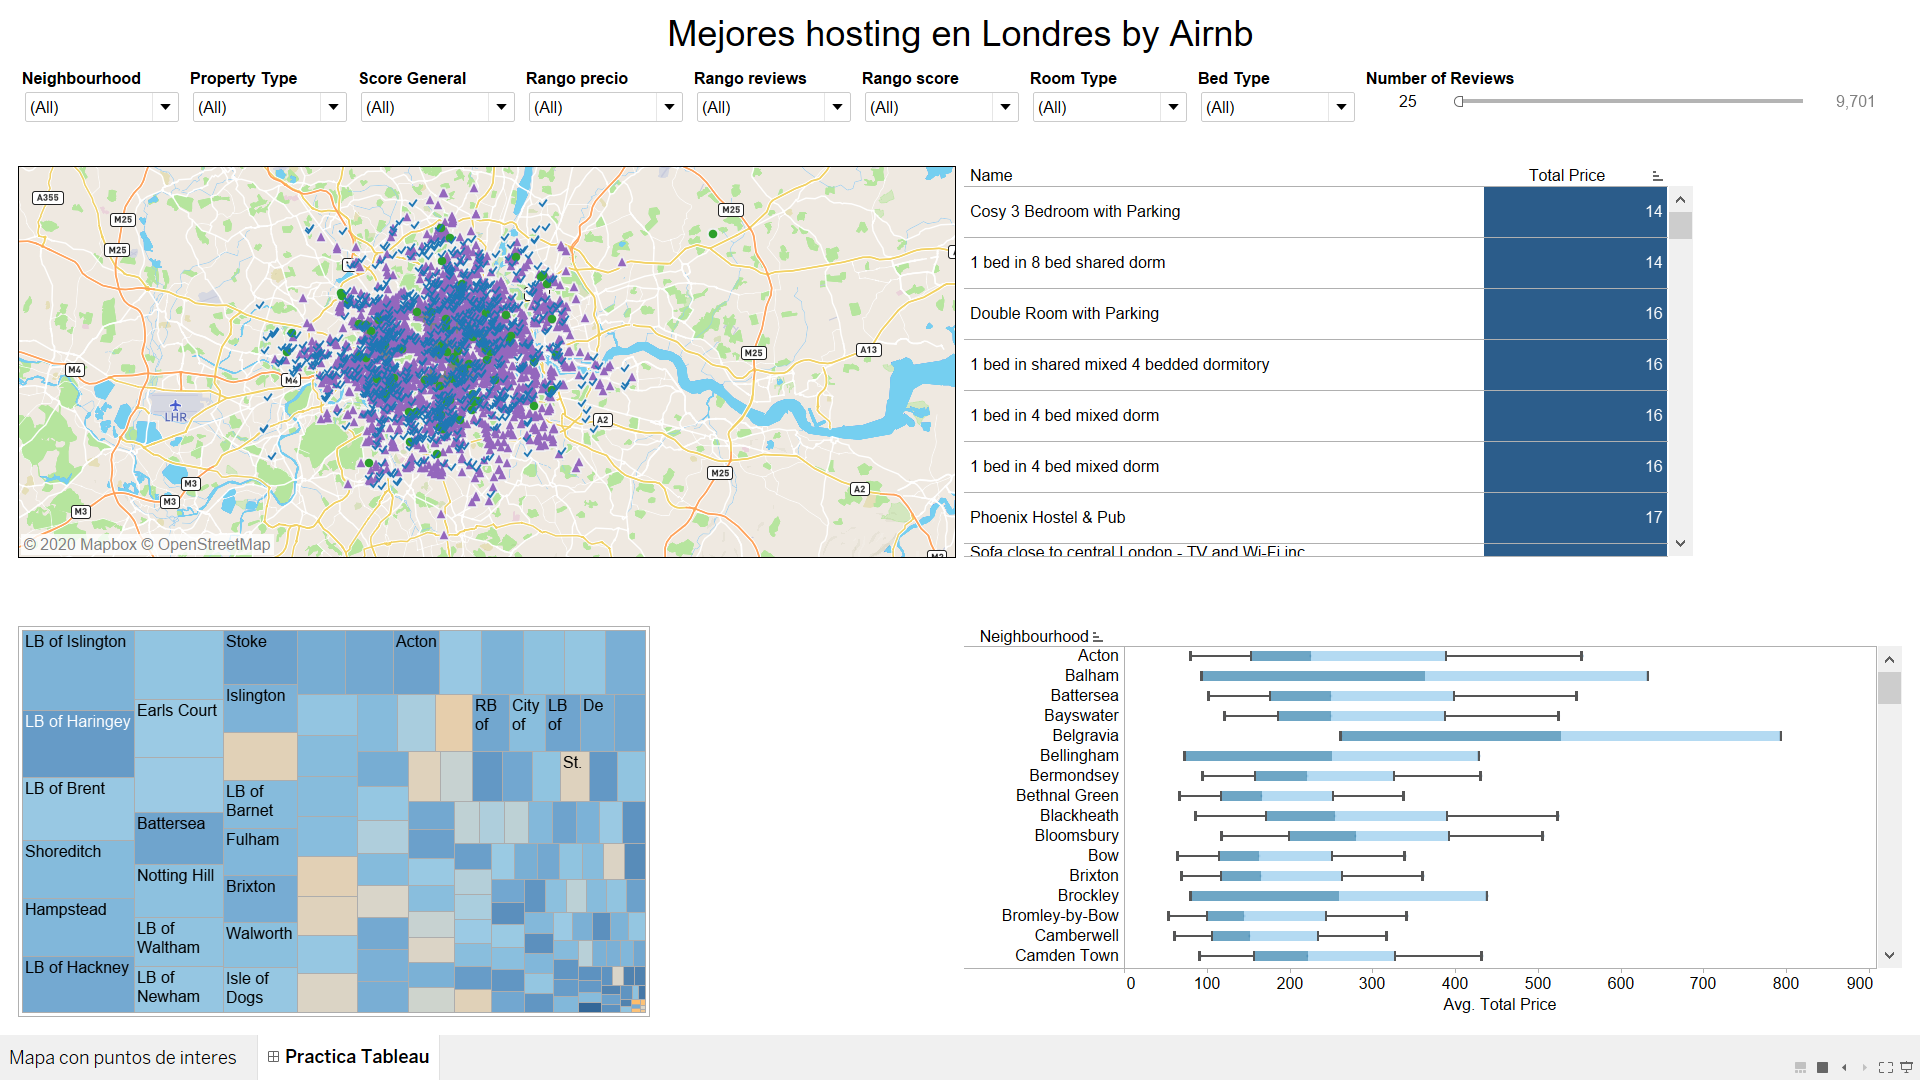

The page's visual inventory and layout, read from the dashboard file:
{"tool":"tableau","page":{"name":"Practica Tableau","canvas":[1000,1000],"units":"permille","ordinal":0},"visuals":[{"type":"title","box":[5,8.9,990,54.5]},{"type":"filter","title":"Mapa","param":"[federated.07pl4mt06vdxwe19zchyw0gzlfca].[none:Neighbourhood:nk]","box":[10,72.2,105,102.2]},{"type":"filter","title":"Mapa","param":"[federated.07pl4mt06vdxwe19zchyw0gzlfca].[none:Property Type:nk]","box":[115,72.2,105,102.2]},{"type":"filter","title":"Mapa","param":"[federated.07pl4mt06vdxwe19zchyw0gzlfca].[none:Calculation_1110418804915150855:n","box":[220,72.2,105,102.2]},{"type":"filter","title":"Mapa","param":"[federated.07pl4mt06vdxwe19zchyw0gzlfca].[none:Calculation_1110418804893048834:n","box":[325,72.2,105,102.2]},{"type":"filter","title":"Mapa","param":"[federated.07pl4mt06vdxwe19zchyw0gzlfca].[none:Rango precio (copy)_1110418804897","box":[430,72.2,105,102.2]},{"type":"filter","title":"Mapa","param":"[federated.07pl4mt06vdxwe19zchyw0gzlfca].[none:Rango reviews (copy)_111041880489","box":[535,72.2,105,102.2]},{"type":"filter","title":"Mapa","param":"[federated.07pl4mt06vdxwe19zchyw0gzlfca].[none:Room Type:nk]","box":[640,72.2,105,102.2]},{"type":"filter","title":"Mapa","param":"[federated.07pl4mt06vdxwe19zchyw0gzlfca].[none:Bed Type:nk]","box":[745,72.2,105,102.2]},{"type":"filter","title":"Rango de precios por vecindario","param":"[federated.07pl4mt06vdxwe19zchyw0gzlfca].[sum:Number of Reviews:qk]","box":[850,72.2,140,102.2]},{"type":"worksheet","title":"Mapa","mark":"Shape","rows":["Latitude"],"cols":["Longitude"],"box":[7.5,178.9,492.5,385.6]},{"type":"worksheet","title":"Detalle","mark":"Square","rows":["ID","Name"],"box":[500,178.9,492.5,385.6]},{"type":"blank","box":[7.5,565,985,35.6]},{"type":"worksheet","title":"Score por vecindario","mark":"Automatic","box":[7.5,601.1,492.5,385.6]},{"type":"worksheet","title":"Rango de precios por vecindario","mark":"Circle","rows":["Neighbourhood"],"cols":["Calculation_338051468576206848"],"box":[500,601.1,492.5,385.6]}]}

Visuals, with their boxes on the dashboard's canvas, which has no fixed pixel size, in thousandths of its width and height (x1, y1, x2, y2). These are canvas units, not pixel positions in the 1920x1080 screenshot, which may show the page scaled, cropped or inside an application window:
title: bbox=(5, 9, 995, 63)
"Mapa" filter: bbox=(10, 72, 115, 174)
"Mapa" filter: bbox=(115, 72, 220, 174)
"Mapa" filter: bbox=(220, 72, 325, 174)
"Mapa" filter: bbox=(325, 72, 430, 174)
"Mapa" filter: bbox=(430, 72, 535, 174)
"Mapa" filter: bbox=(535, 72, 640, 174)
"Mapa" filter: bbox=(640, 72, 745, 174)
"Mapa" filter: bbox=(745, 72, 850, 174)
"Rango de precios por vecindario" filter: bbox=(850, 72, 990, 174)
"Mapa" worksheet (Shape marks): bbox=(8, 179, 500, 564)
"Detalle" worksheet (Square marks): bbox=(500, 179, 992, 564)
blank: bbox=(8, 565, 992, 601)
"Score por vecindario" worksheet: bbox=(8, 601, 500, 987)
"Rango de precios por vecindario" worksheet (Circle marks): bbox=(500, 601, 992, 987)
